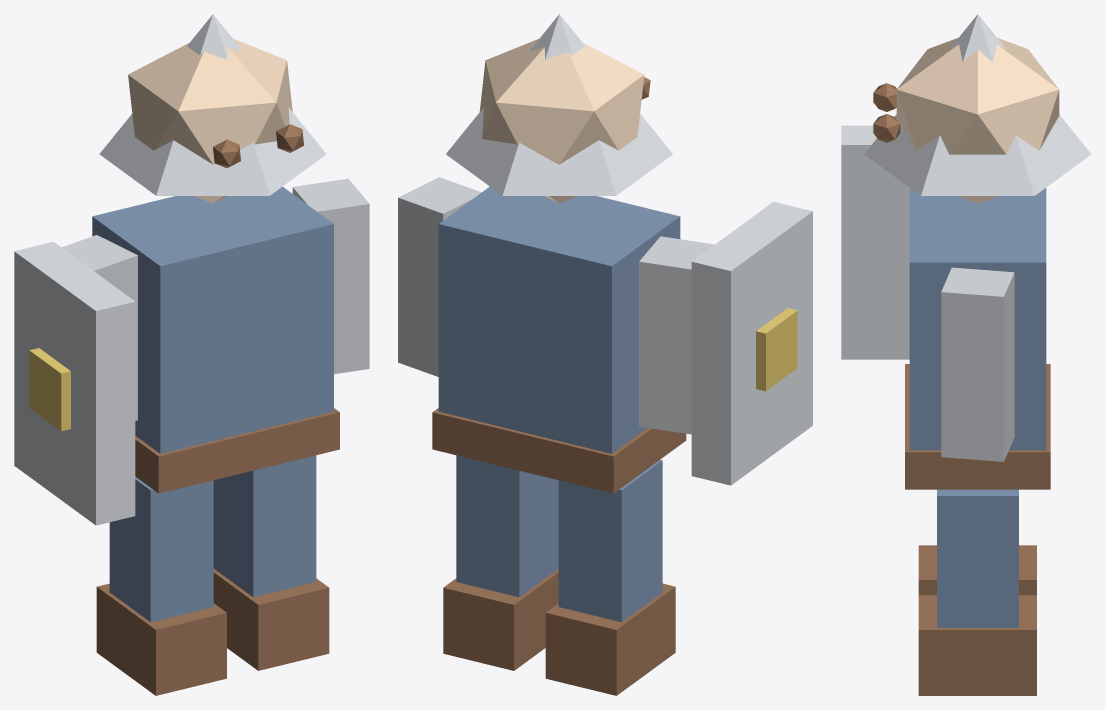
The model's file is guard.glb.
3 views of the same model, side by side, from view 1: azimuth 30°, elevation 25°; view 2: azimuth 150°, elevation 25°; view 3: azimuth 270°, elevation 25° (orthographic).
Parts seen in each view (by area): view 1: tunic.001, shield, head.009, leg_r.007, leg_l.007, helm, boot_l.003, belt.004, boot_r.003, arm_r.007, arm_l.007, shield_boss (+2 smaller); view 2: tunic.001, shield, head.009, leg_l.007, leg_r.007, helm, arm_l.007, belt.004, boot_l.003, arm_r.007, boot_r.003, shield_boss; view 3: tunic.001, head.009, shield, arm_r.007, leg_r.007, helm, boot_r.003, belt.004, boot_l.003, eye_r.015, eye_l.015.
Part boxes in pixels (x1,y1,x2,y2): tunic.001: [92, 186, 333, 453]; shield: [14, 241, 135, 525]; head.009: [128, 39, 292, 203]; leg_r.007: [213, 455, 316, 597]; leg_l.007: [109, 477, 213, 622]; helm: [99, 14, 326, 195]; boot_l.003: [96, 583, 226, 695]; belt.004: [135, 408, 339, 493]; boot_r.003: [213, 569, 329, 670]; arm_r.007: [292, 178, 369, 374]; arm_l.007: [62, 235, 137, 420]; shield_boss: [29, 348, 70, 431]; tunic.001: [438, 186, 680, 453]; shield: [691, 201, 812, 485]; head.009: [479, 39, 644, 203]; leg_l.007: [558, 460, 662, 622]; leg_r.007: [456, 455, 558, 597]; helm: [446, 14, 672, 195]; arm_l.007: [639, 236, 714, 434]; belt.004: [432, 408, 686, 493]; boot_l.003: [545, 583, 675, 695]; arm_r.007: [398, 177, 481, 376]; boot_r.003: [443, 569, 558, 670]; shield_boss: [756, 308, 797, 391]; tunic.001: [909, 188, 1046, 450]; head.009: [896, 37, 1059, 203]; shield: [841, 125, 909, 359]; arm_r.007: [941, 267, 1014, 461]; leg_r.007: [937, 489, 1018, 627]; helm: [864, 14, 1091, 195]; boot_r.003: [918, 595, 1036, 695]; belt.004: [905, 364, 1050, 489]; boot_l.003: [918, 545, 1036, 595]; eye_r.015: [873, 114, 900, 142]; eye_l.015: [873, 83, 896, 111].
Bounding box in the file's own units: 0.8715 × 1.55 × 0.55.
